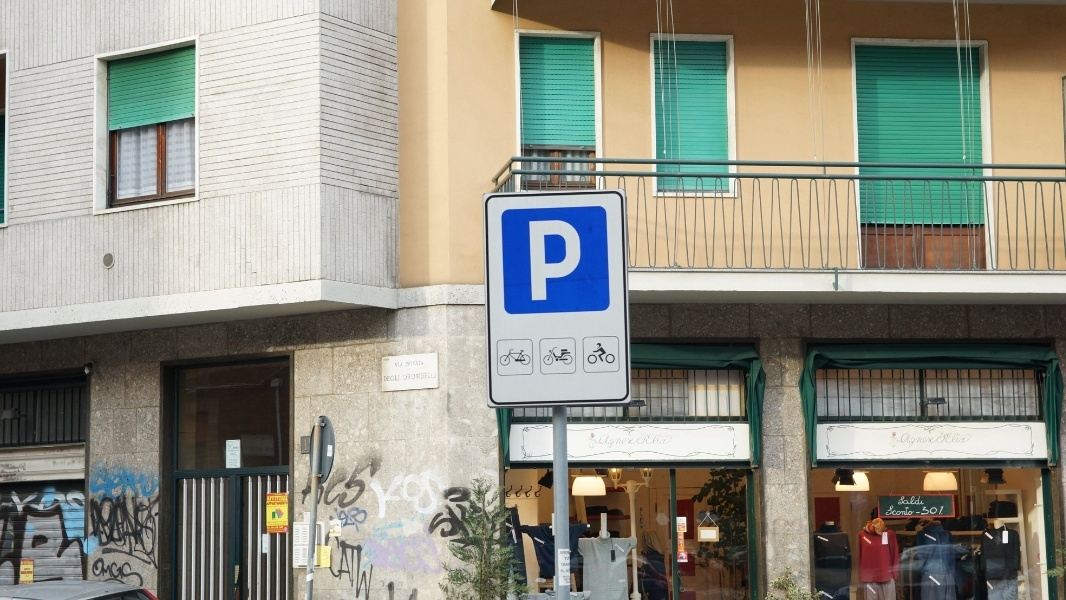text: (97, 463, 112, 592), (113, 463, 128, 592), (129, 463, 144, 592), (145, 463, 159, 592), (529, 214, 544, 306), (545, 214, 560, 306), (561, 214, 576, 306), (519, 214, 528, 306), (90, 463, 96, 592), (273, 495, 288, 534), (577, 214, 583, 306), (227, 442, 240, 469), (593, 432, 608, 452), (609, 432, 624, 452), (625, 432, 640, 452), (641, 432, 656, 452), (657, 432, 672, 452), (913, 432, 928, 450), (929, 432, 944, 450), (945, 432, 960, 450), (21, 561, 32, 584), (900, 432, 912, 450), (961, 432, 973, 450), (913, 495, 928, 508), (897, 505, 912, 518), (913, 505, 928, 518), (929, 505, 944, 518), (898, 495, 912, 508), (268, 495, 272, 534), (417, 373, 432, 382), (385, 375, 401, 383), (402, 373, 416, 382), (888, 505, 896, 518), (588, 432, 592, 452), (405, 361, 416, 368), (417, 361, 425, 368), (433, 373, 438, 382), (394, 363, 400, 369), (401, 363, 405, 369), (673, 432, 674, 452), (945, 505, 946, 518), (383, 375, 384, 383)
